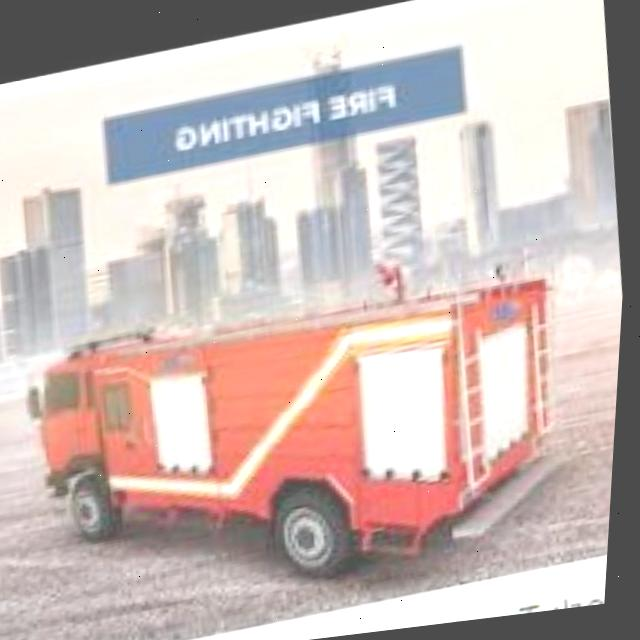emergency: (11, 242, 592, 611)
